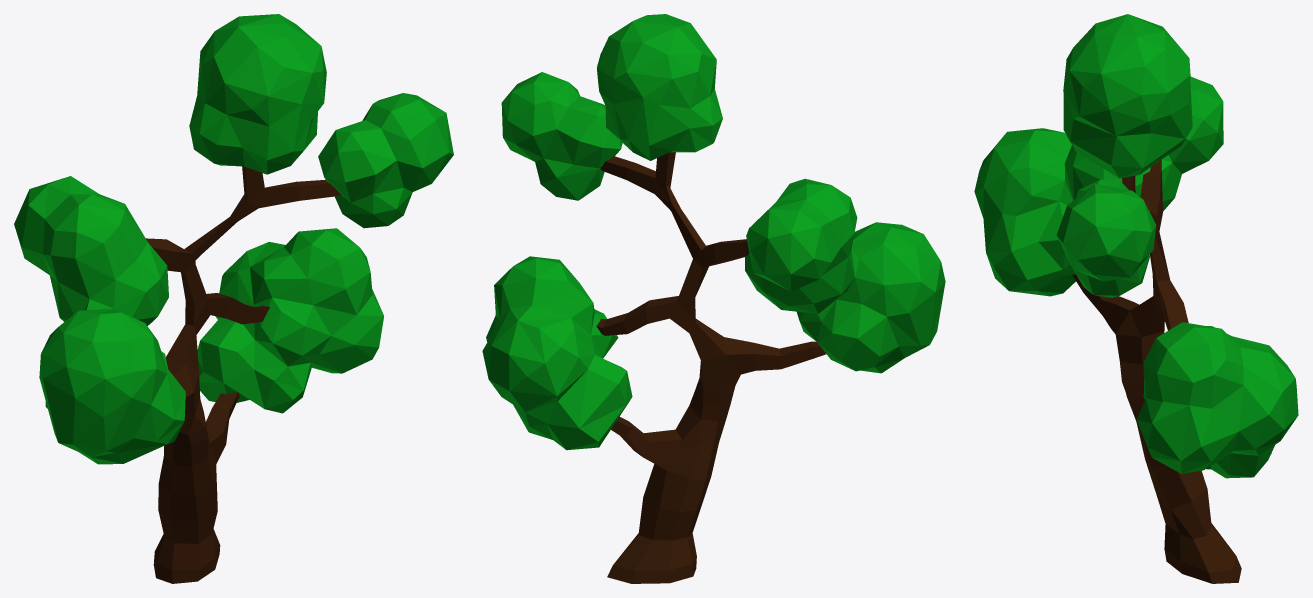
File: arbre_3.FBX
3 views of the same model, side by side, from view 1: azimuth 30°, elevation 25°; view 2: azimuth 150°, elevation 25°; view 3: azimuth 270°, elevation 25° (orthographic). The views are drawn at different scales.
Visible parts, largest first — view 1: LowPoly_Tree_05_; view 2: LowPoly_Tree_05_; view 3: LowPoly_Tree_05_.
Part boxes in pixels (x1,y1,x2,y2): LowPoly_Tree_05_: (14,14,453,583); LowPoly_Tree_05_: (482,14,945,583); LowPoly_Tree_05_: (974,14,1298,583).
Size of the model in its own units: 54.93 by 67.53 by 35.51.
